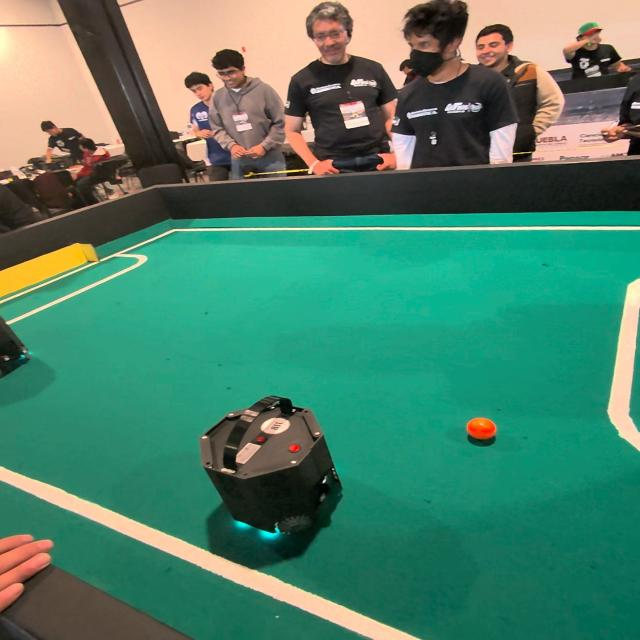Robot: (195, 387, 357, 557), (0, 295, 48, 395)
pelota: (466, 418, 498, 445)
